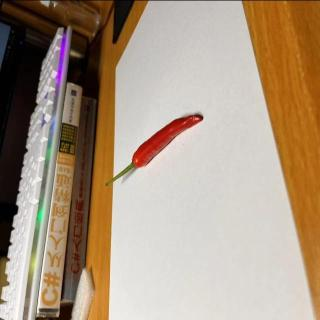Cabai Merah: (106, 115, 204, 187)
